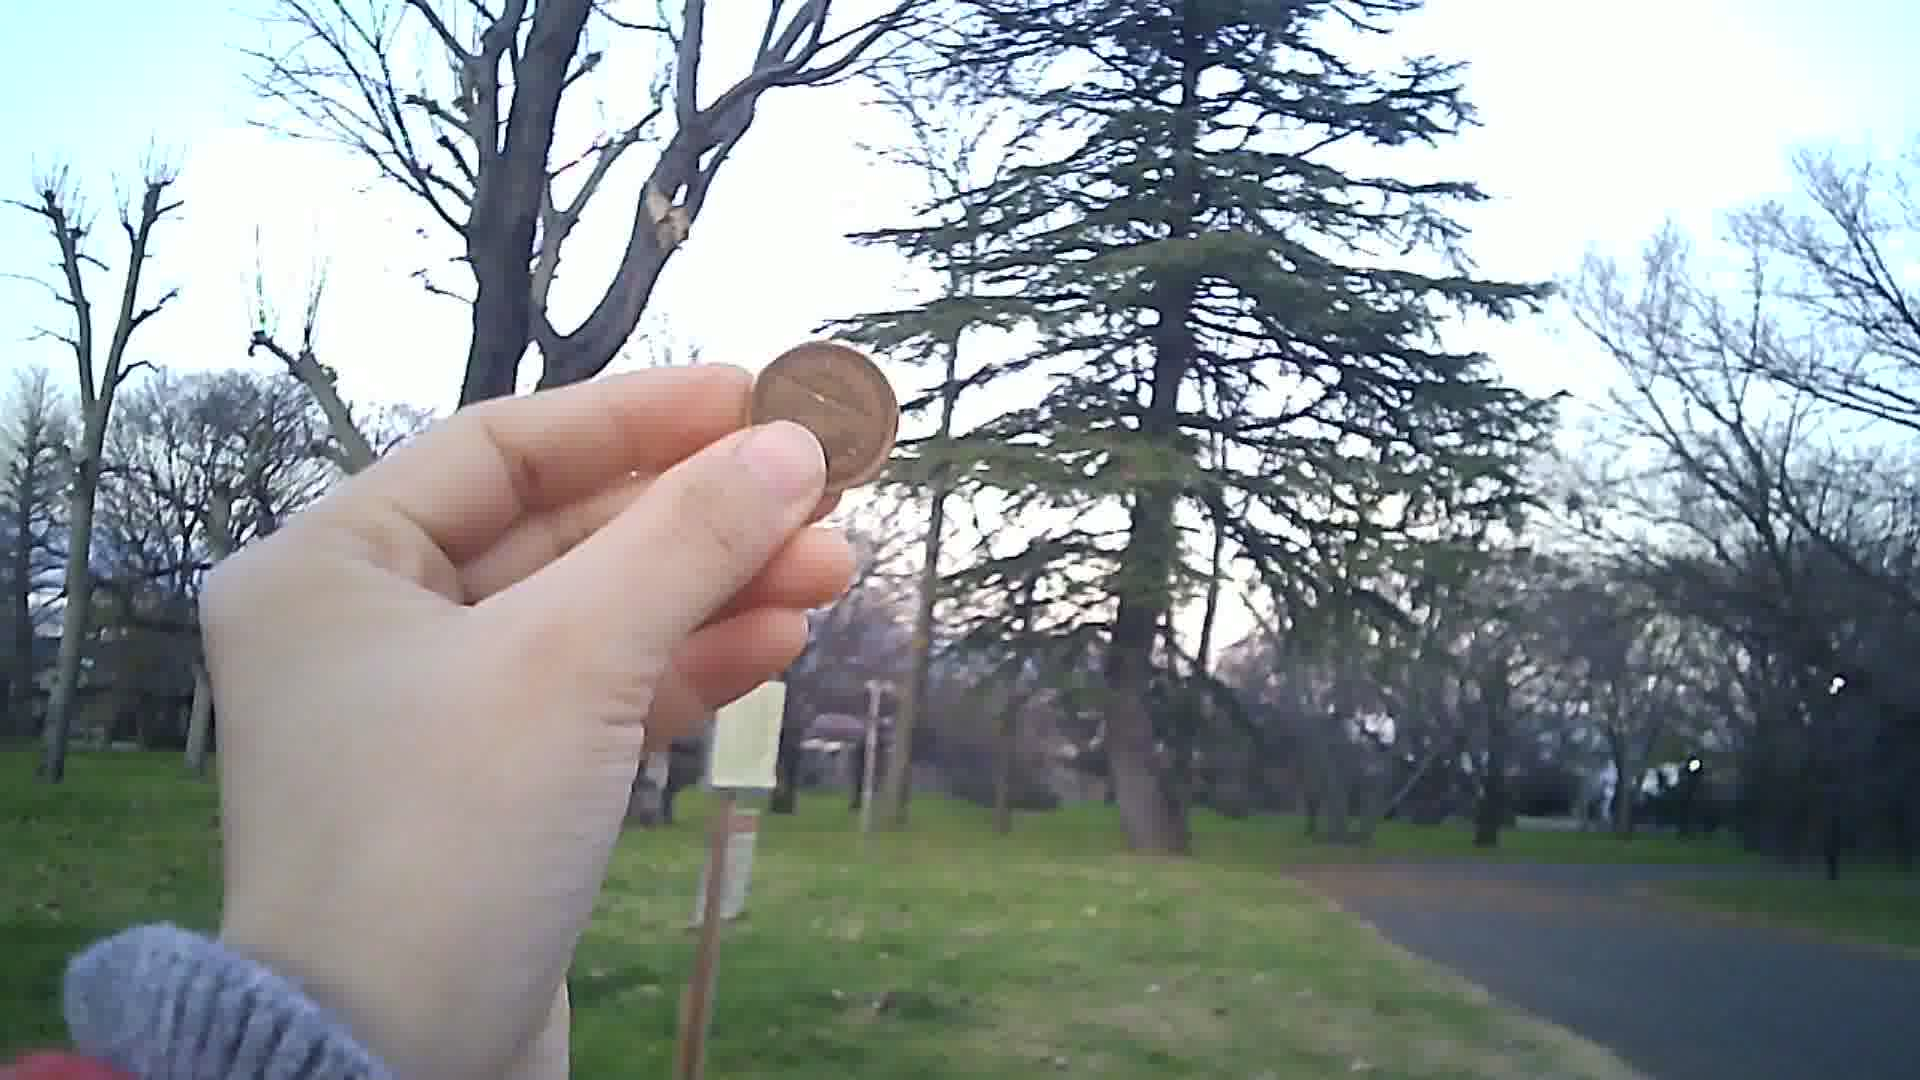10 Yen: (741, 339, 897, 498)
